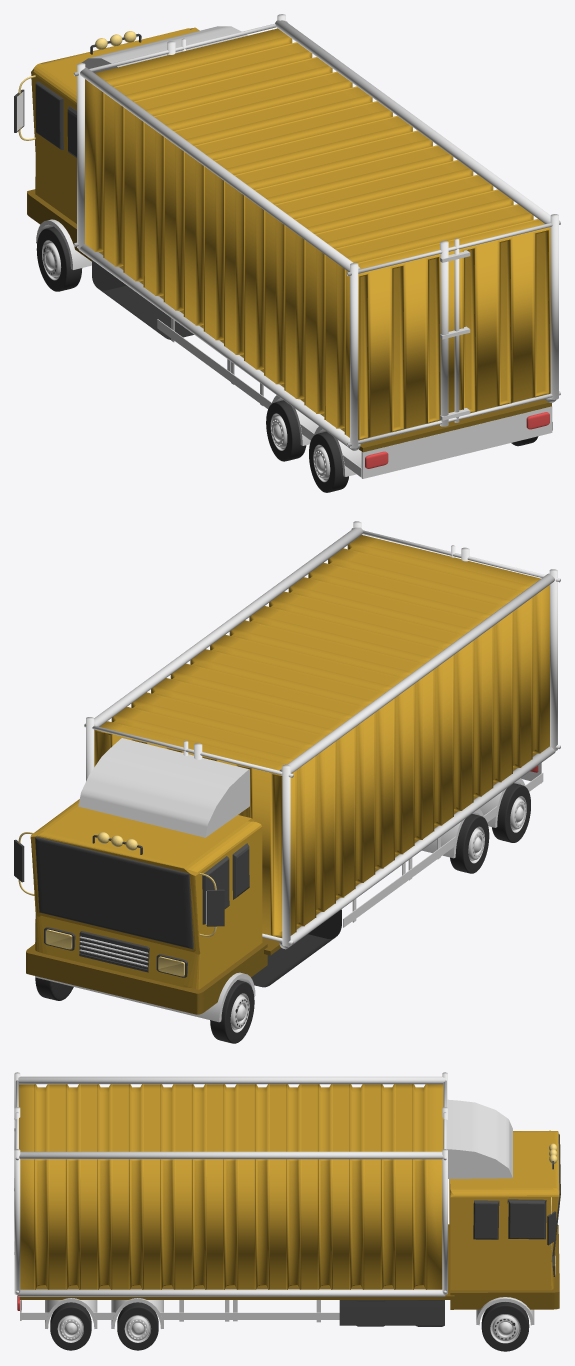
The picture shows the model from 3 angles, top to bottom: view 1: azimuth 30°, elevation 25°; view 2: azimuth 150°, elevation 25°; view 3: azimuth 270°, elevation 25°; orthographic projection. The views are drawn at different scales.
Parts seen in each view (by area): view 1: Cylinder.008, Cube.009, Plane.001, Cube.001, Cube, Cube.003, tyre.003, tyre, tyre.001, Cylinder.002, Cylinder.001, Cube.002; view 2: Cylinder.008, Cube.009, Cube.003, Cube.001, tyre.003, Plane.001, tyre, tyre.001, Cylinder.001, Cylinder.002; view 3: Cylinder.008, Cube.009, Cube.003, Cube.001, Plane.001, Cube, tyre.002, tyre.001, tyre, Cylinder.002, Cylinder.001.
Part boxes in pixels (bbox=[...]): Cylinder.008: bbox=[73, 14, 560, 450]; Cube.009: bbox=[14, 27, 199, 261]; Plane.001: bbox=[157, 318, 552, 478]; Cube.001: bbox=[92, 260, 193, 339]; Cube: bbox=[99, 251, 551, 452]; Cube.003: bbox=[81, 26, 248, 72]; tyre.003: bbox=[36, 226, 82, 291]; tyre: bbox=[309, 431, 538, 492]; tyre.001: bbox=[266, 400, 306, 461]; Cylinder.002: bbox=[271, 395, 361, 476]; Cylinder.001: bbox=[36, 219, 91, 269]; Cube.002: bbox=[365, 412, 549, 468]; Cylinder.008: bbox=[84, 521, 560, 949]; Cube.009: bbox=[14, 799, 267, 1014]; Cube.003: bbox=[78, 738, 249, 837]; Cube.001: bbox=[251, 909, 341, 987]; tyre.003: bbox=[210, 980, 254, 1043]; Plane.001: bbox=[343, 763, 543, 927]; tyre: bbox=[492, 783, 530, 842]; tyre.001: bbox=[450, 814, 489, 873]; Cylinder.001: bbox=[35, 972, 255, 1022]; Cylinder.002: bbox=[422, 778, 525, 858]; Cylinder.008: bbox=[14, 1072, 447, 1296]; Cube.009: bbox=[449, 1130, 560, 1309]; Cube.003: bbox=[446, 1099, 512, 1178]; Cube.001: bbox=[339, 1300, 444, 1326]; Plane.001: bbox=[20, 1300, 339, 1322]; Cube: bbox=[19, 1224, 454, 1299]; tyre.002: bbox=[481, 1302, 529, 1351]; tyre.001: bbox=[117, 1302, 158, 1350]; tyre: bbox=[50, 1302, 91, 1350]; Cylinder.002: bbox=[45, 1298, 163, 1328]; Cylinder.001: bbox=[476, 1297, 534, 1325].
Size of the model in its own units: 1.24 by 1.38 by 3.43.
